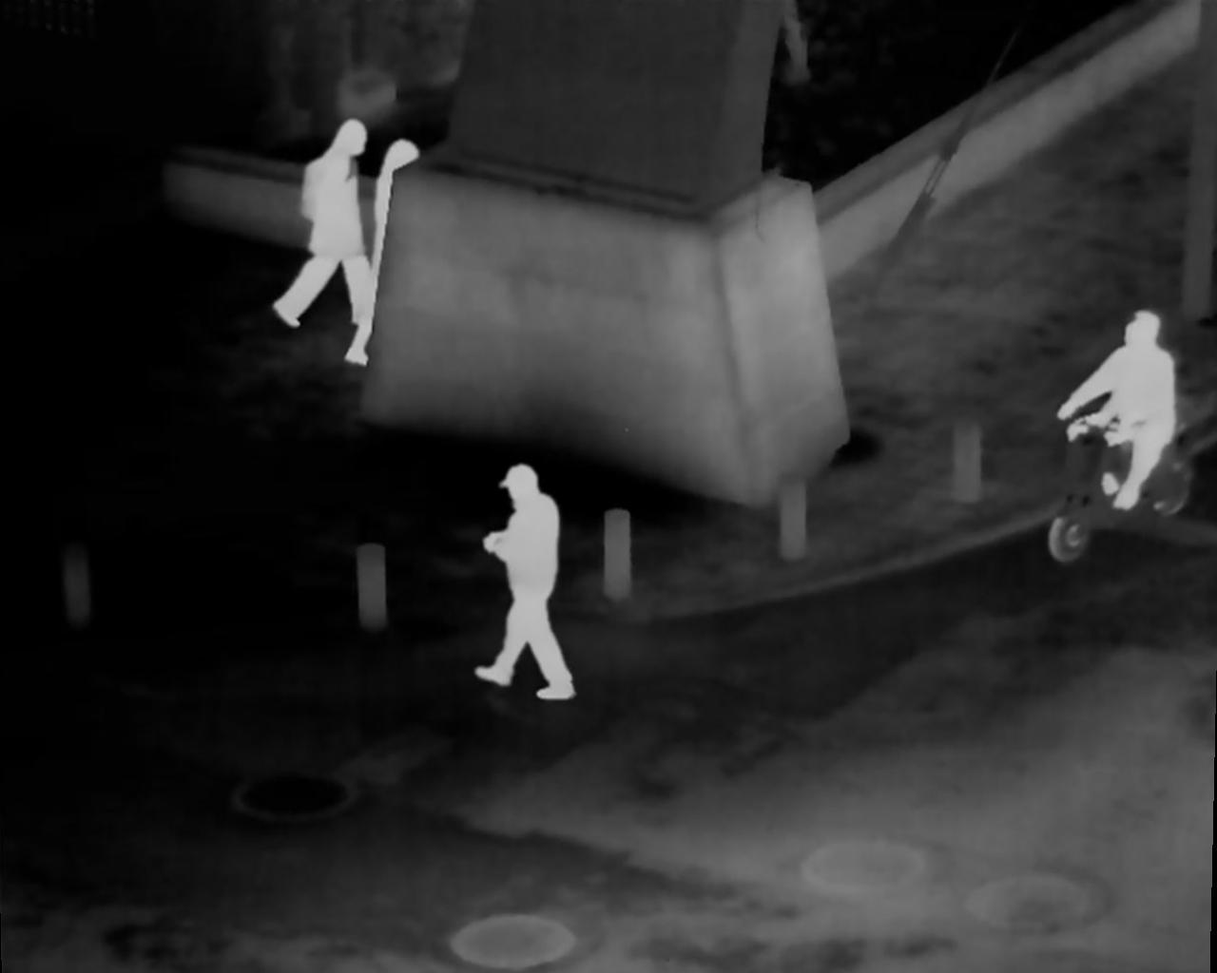person: (1061, 308, 1181, 540), (468, 465, 582, 700), (270, 120, 372, 329), (349, 138, 433, 361)
